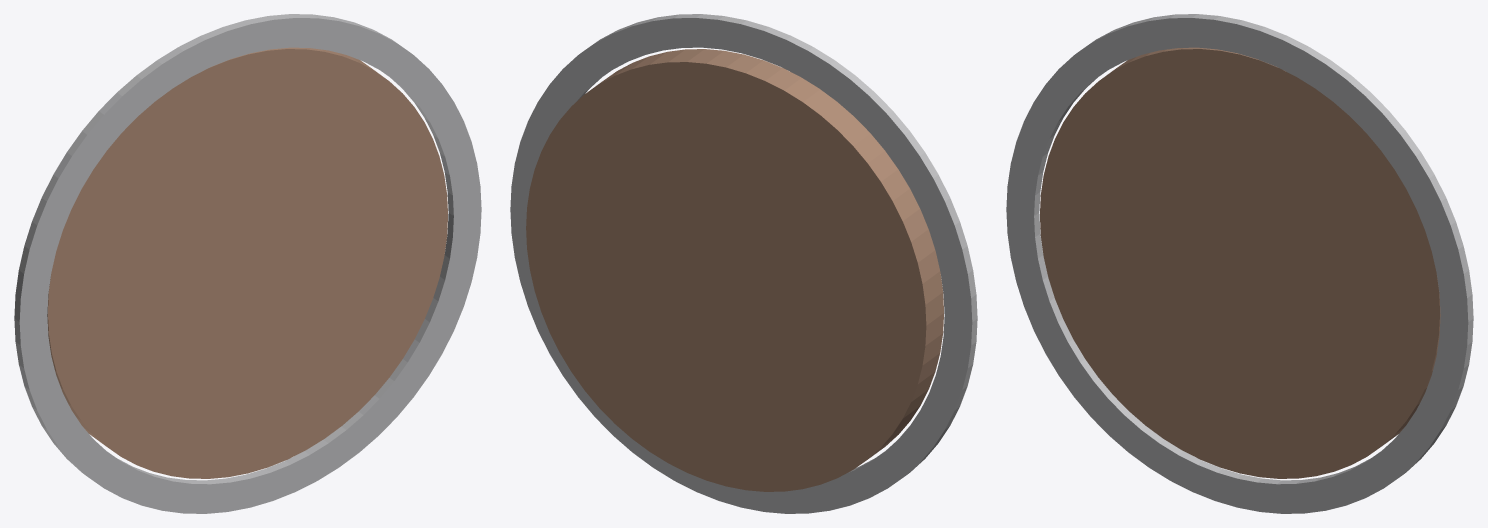
Rendered from app-leather.glb.
The picture shows the model from 3 angles, left to right: view 1: azimuth 30°, elevation 25°; view 2: azimuth 150°, elevation 25°; view 3: azimuth 330°, elevation 25°; orthographic projection.
Parts seen in each view (by area): view 1: app_leather, ring; view 2: app_leather, ring; view 3: app_leather, ring.
Part boxes in pixels (box(x1,y1,x2,y2)): app_leather: box(47, 47, 447, 478); ring: box(14, 14, 481, 513); app_leather: box(526, 49, 943, 491); ring: box(510, 14, 977, 513); app_leather: box(1040, 47, 1440, 478); ring: box(1006, 14, 1473, 513).
Size of the model in its own units: 0.15 by 0.15 by 0.0115.
